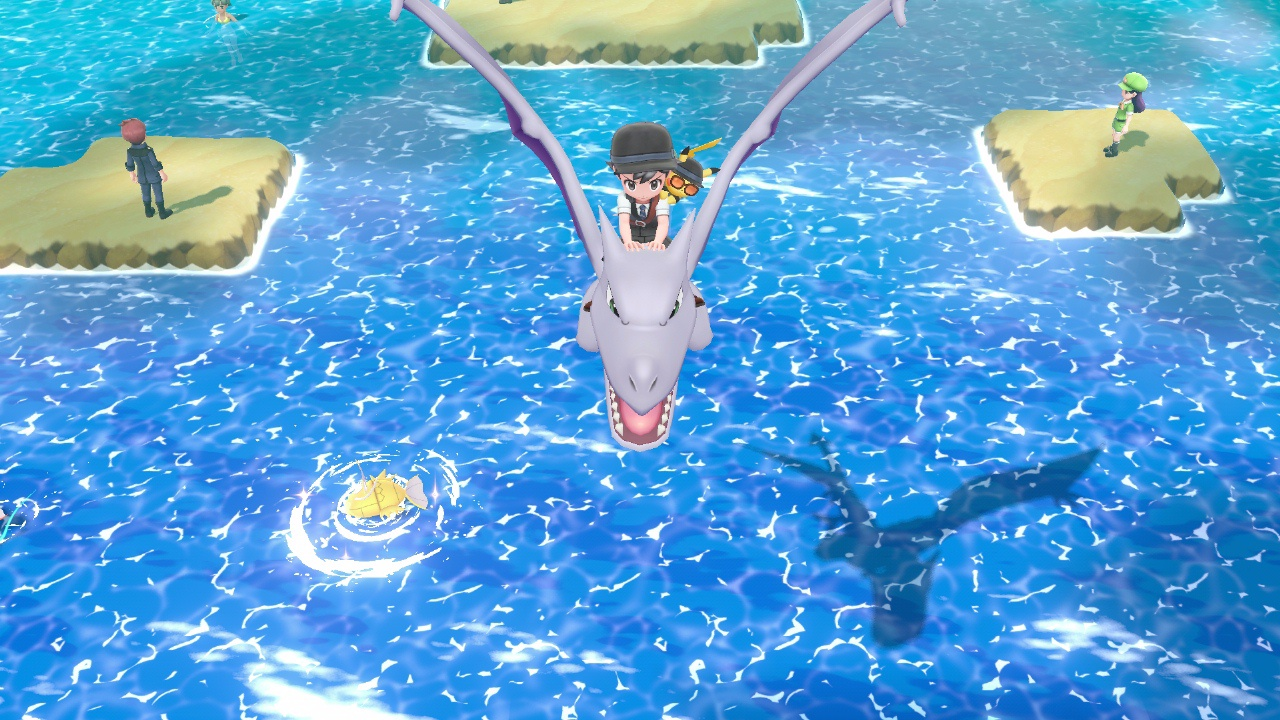Golden: (342, 470, 427, 519)
